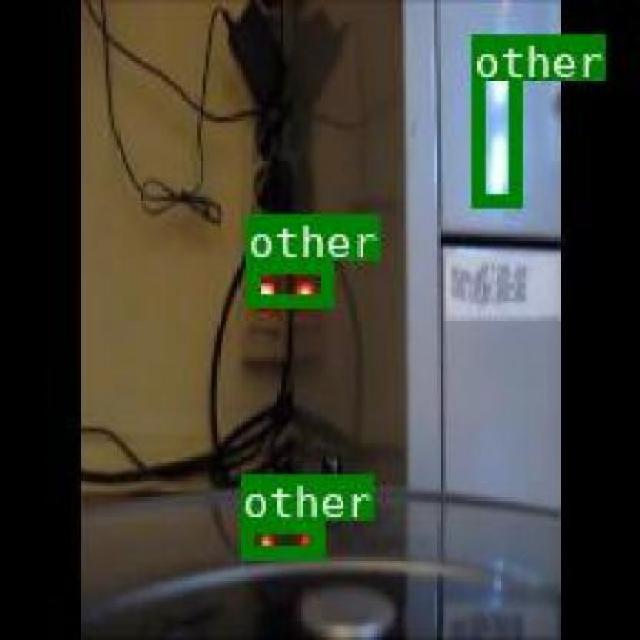other: (471, 31, 518, 204), (244, 258, 330, 306), (240, 518, 322, 556)
